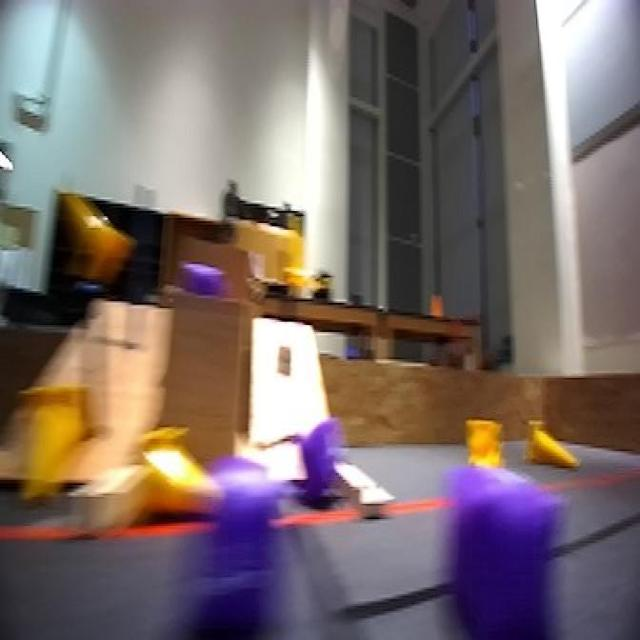frc_cone: (138, 424, 238, 541), (21, 378, 94, 502), (61, 174, 129, 274), (523, 411, 581, 478), (277, 201, 316, 296), (466, 416, 502, 472)
frc_cube: (430, 459, 568, 640), (162, 456, 275, 640), (295, 408, 343, 509), (181, 254, 233, 312)
